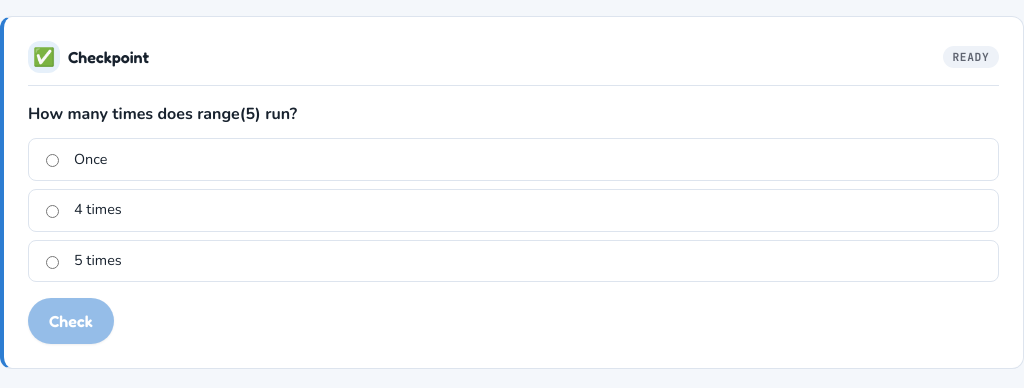
Test: [Phase 3] Checkpoint › shows correct feedback and completes on the right answer
The image size is (1024, 388).
Click the radio button labelled "5 times": [52, 262] box x1=46 y1=256 x2=59 y2=269
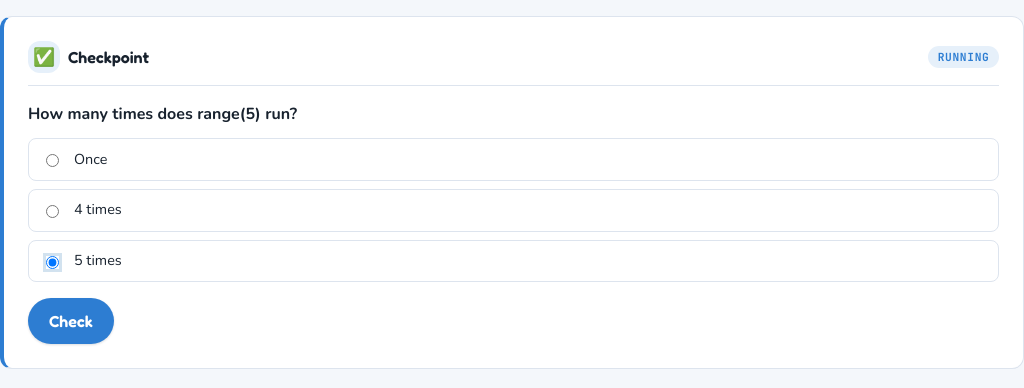
Click the button "Check": [71, 321] box x1=28 y1=298 x2=114 y2=344
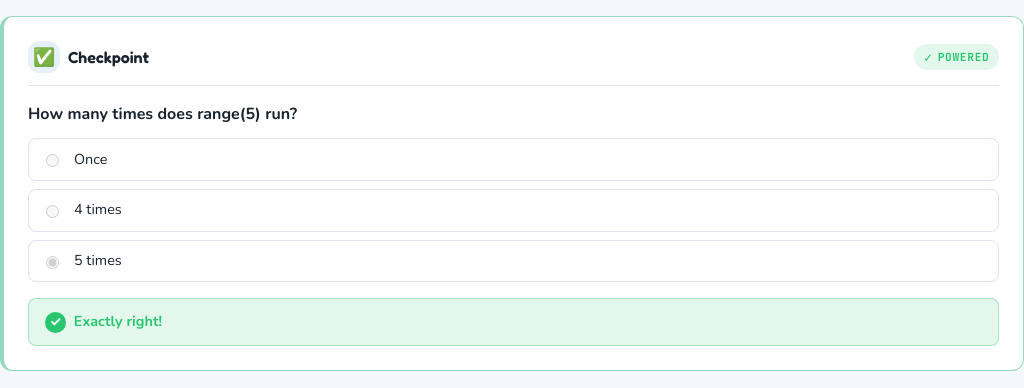
Expected: the text "Exactly right!" is shown, x1=28 y1=298 x2=999 y2=346
